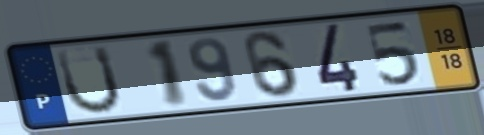1: (145, 37, 189, 112)
4: (313, 21, 362, 96)
5: (362, 18, 423, 88)
6: (241, 28, 303, 102)
9: (185, 36, 239, 104)
U: (53, 43, 125, 117)
